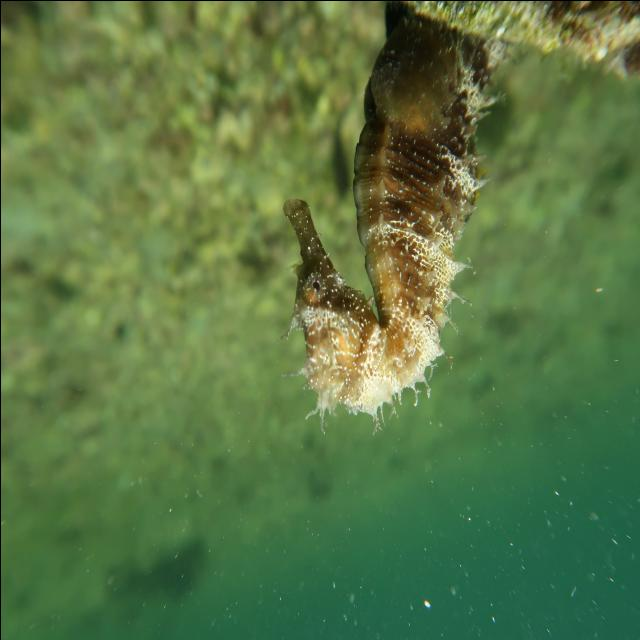Guttu: (271, 185, 389, 436)
